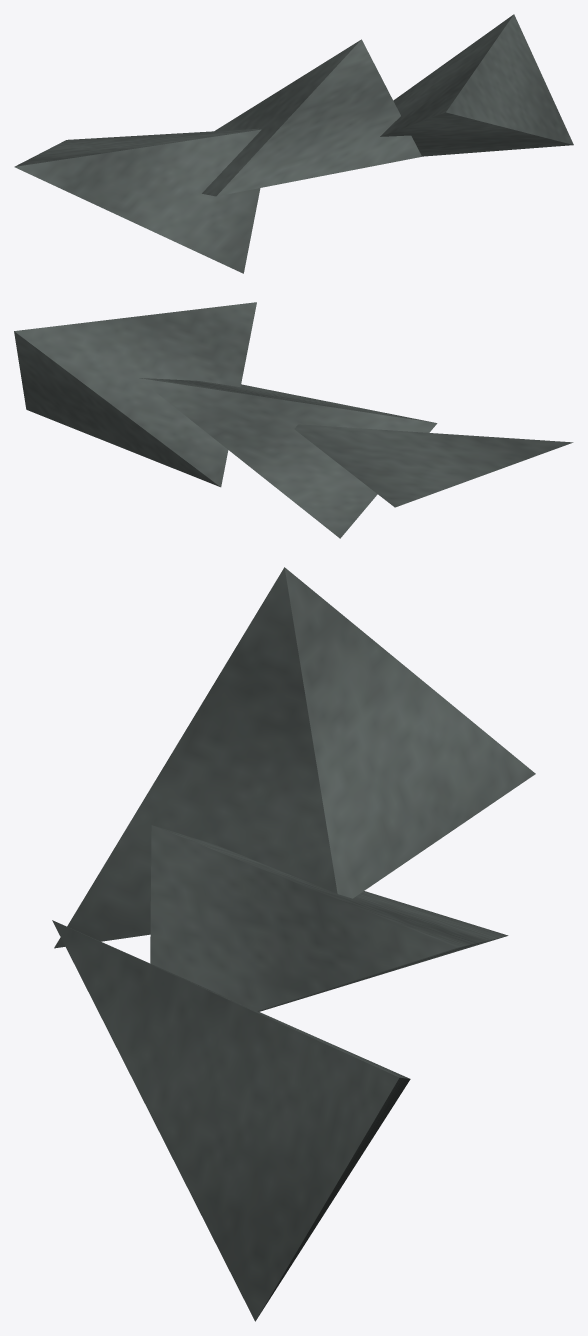
File: reef.reef_cluster.lod2.glb
3 views of the same model, one above another, from view 1: azimuth 30°, elevation 25°; view 2: azimuth 150°, elevation 25°; view 3: azimuth 270°, elevation 25° (orthographic). The views are drawn at different scales.
Parts seen in each view (by area): view 1: Reef, Reef.001, Reef.002; view 2: Reef.002, Reef.001, Reef; view 3: Reef, Reef.002, Reef.001.
Boxes of the visible parts, box(x1,y1,x2,y2) form: Reef: box(14, 128, 261, 273); Reef.001: box(202, 39, 421, 196); Reef.002: box(380, 14, 573, 156); Reef.002: box(14, 302, 256, 487); Reef.001: box(138, 378, 437, 538); Reef: box(294, 424, 573, 507); Reef: box(54, 567, 535, 948); Reef.002: box(52, 920, 410, 1321); Reef.001: box(150, 825, 508, 1011).
Size of the model in its own units: 1.51 by 0.2974 by 0.5741.
Materials: 1 (1 with a texture image).
